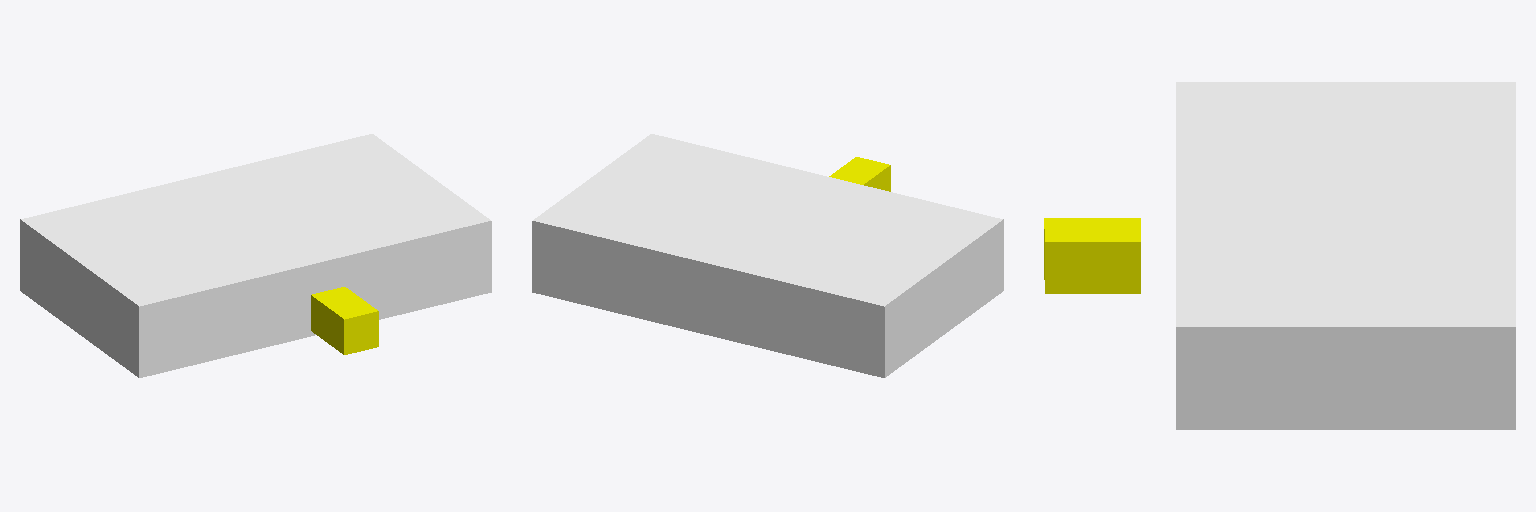
The robot description file, URDF, robot "hexapod_leg":
<?xml version="1.0" ?>
<!-- =================================================================================== -->
<!-- |    This document was autogenerated by xacro from src/visual_model/urdf/hexapod_leg.xacro | -->
<!-- |    EDITING THIS FILE BY HAND IS NOT RECOMMENDED                                 | -->
<!-- =================================================================================== -->
<robot name="hexapod_leg" xmlns:xacro="http://www.ros.org/wiki/xacro">
  <link name="base_link"/>
  <joint name="base_joint" type="fixed">
    <parent link="base_link"/>
    <child link="body"/>
    <origin rpy="0 0 0" xyz="0 0 0"/>
  </joint>
  <link name="body">
    <visual>
      <geometry>
        <box size="0.205 0.12 0.04"/>
      </geometry>
      <origin rpy="0 0 0" xyz="0 0 0"/>
      <material name="white">
        <color rgba="1 1 1 1"/>
      </material>
    </visual>
    <collision>
      <geometry>
        <box size="0.205 0.12 0.04"/>
      </geometry>
    </collision>
    <inertial>
      <mass value="0.3"/>
      <inertia ixx="1.0" ixy="0.0" ixz="0.0" iyy="1.0" iyz="0.0" izz="1.0"/>
    </inertial>
  </link>
  <link name="leg_center_1"/>
  <joint name="leg_center_joint" type="fixed">
    <parent link="body"/>
    <child link="leg_center_1"/>
    <origin rpy="0 0 -1.57" xyz="0 -0.0725 0"/>
  </joint>
  <link name="leg_L1">
    <visual>
      <geometry>
        <box size="0.034 0.02 0.02"/>
      </geometry>
      <origin rpy="0 0 0" xyz="0.017 0 0"/>
      <material name="yellow">
        <color rgba="255 255 0 1"/>
      </material>
    </visual>
    <collision>
      <geometry>
        <box size="0.034 0.02 0.02"/>
      </geometry>
    </collision>
    <inertial>
      <mass value="0.158"/>
      <inertia ixx="1.0" ixy="0.0" ixz="0.0" iyy="1.0" iyz="0.0" izz="1.0"/>
    </inertial>
  </link>
  <joint name="body_to_leg1" type="revolute">
    <parent link="leg_center_1"/>
    <child link="leg_L1"/>
    <axis xyz="0 0 -1"/>
    <origin rpy="0 0 0" xyz="0 0 0"/>
    <limit effort="1000.0" lower="-1.0" upper="1.0" velocity="0.5"/>
  </joint>
  <!--
    <link name="leg_L2">
      <visual>
        <geometry>
          <box size="${L2_length} ${L_width} ${L_width}"/>
        </geometry>
        <origin rpy="0 0 0" xyz="${L2_length/2} 0 0"/>
        <material name="yellow">
          <color rgba="255 0 255 1"/>
        </material>
      </visual>
      <collision>
        <geometry>
          <box size="${L2_length} ${L_width} ${L_width}"/>
        </geometry>
      </collision>
      <xacro:default_inertial mass="${L2_mass}"/>
    </link>

    <joint name="leg1_to_leg2" type="revolute">
      <parent link="leg_L1"/>
      <child link="leg_L2"/>
      <origin rpy="0 0 0" xyz="0 -0.5 0"/>
      <limit effort ="1000.0" lower="-1.0" upper="1.0" velocity="0.5"/>
    </joint>
-->
</robot>

--- Facts derived from the render (not from the file) ---
3 views of the same robot in one strip: view 1: azimuth 30°, elevation 25°; view 2: azimuth 150°, elevation 25°; view 3: azimuth 270°, elevation 25° (orthographic).
Robot: hexapod_leg — 4 links, 3 joints (1 revolute, 2 fixed); root link base_link; default pose: all joints at 0.
Visible links, largest first — view 1: body, leg_L1; view 2: body, leg_L1; view 3: body, leg_L1.
Boxes of the visible links, bbox=[...] form: body: bbox=[20, 134, 491, 377]; leg_L1: bbox=[311, 287, 378, 354]; body: bbox=[532, 134, 1003, 377]; leg_L1: bbox=[829, 157, 890, 191]; body: bbox=[1176, 82, 1515, 429]; leg_L1: bbox=[1044, 218, 1140, 293].
Size in the robot's own frame: 0.205 by 0.1665 by 0.04 metres.
Geometry: primitives only (box / cylinder / sphere), no mesh files.